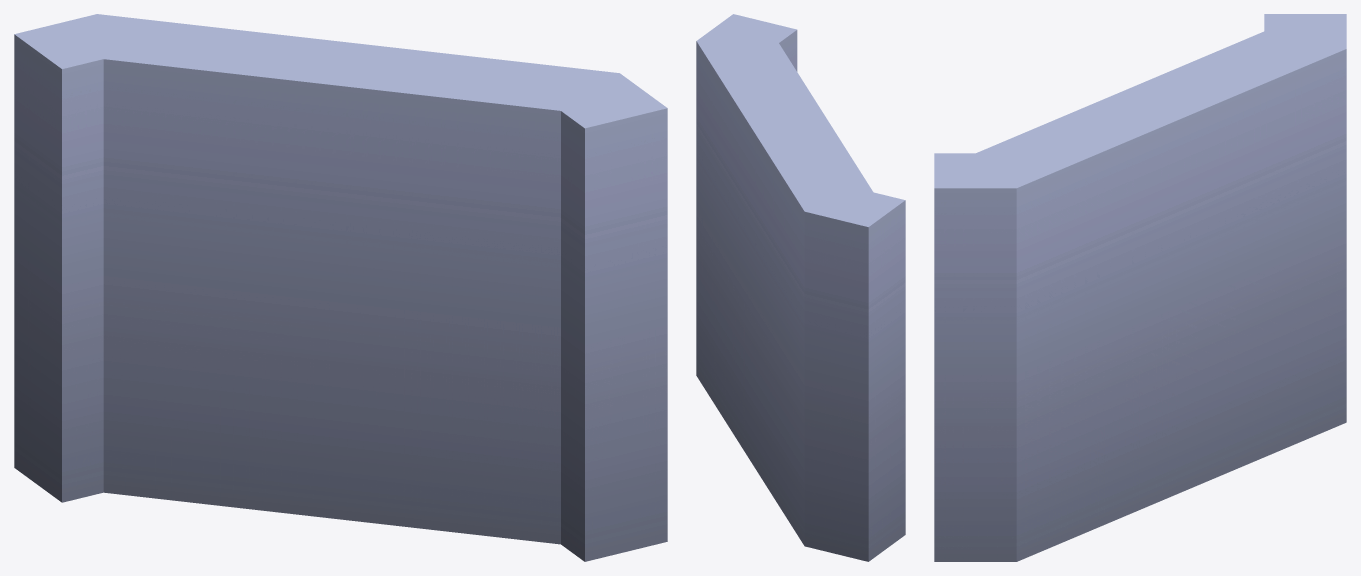
File: wall-diagonal.glb
3 views of the same model, side by side, from view 1: azimuth 30°, elevation 25°; view 2: azimuth 150°, elevation 25°; view 3: azimuth 270°, elevation 25° (orthographic). The views are drawn at different scales.
Parts seen in each view (by area): view 1: wall-diagonal; view 2: wall-diagonal; view 3: wall-diagonal.
Boxes of the visible parts, left/top/right/bottom form: wall-diagonal: left=14, top=14, right=667, bottom=561; wall-diagonal: left=696, top=14, right=905, bottom=561; wall-diagonal: left=934, top=14, right=1346, bottom=561.
Bounding box in the file's own units: 1 × 1 × 1.
1 material, 1 textured.
